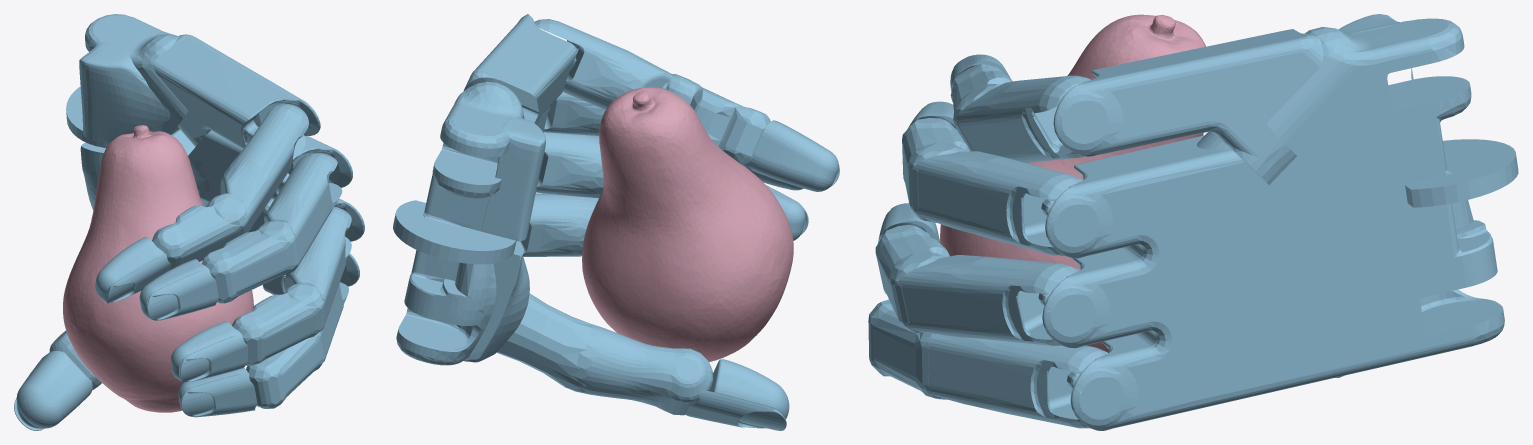
The picture shows the model from 3 angles, left to right: view 1: azimuth 30°, elevation 25°; view 2: azimuth 150°, elevation 25°; view 3: azimuth 270°, elevation 25°; orthographic projection. The views are drawn at different scales.
Visible parts, largest first — view 1: world; view 2: world; view 3: world.
Boxes of the visible parts, <box> form: world: <box>14,14,364,430</box>; world: <box>393,14,839,430</box>; world: <box>868,14,1518,430</box>.
Size of the model in its own units: 0.1304 by 0.1208 by 0.1573.
